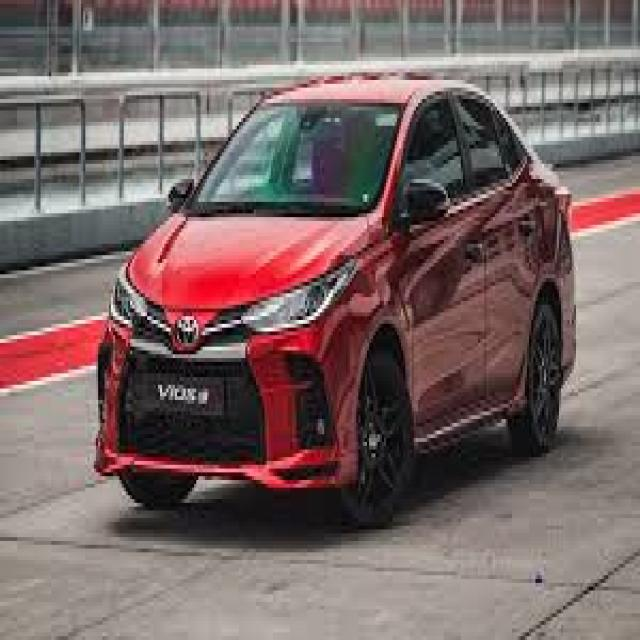ToyotaVios: (92, 64, 576, 530)
